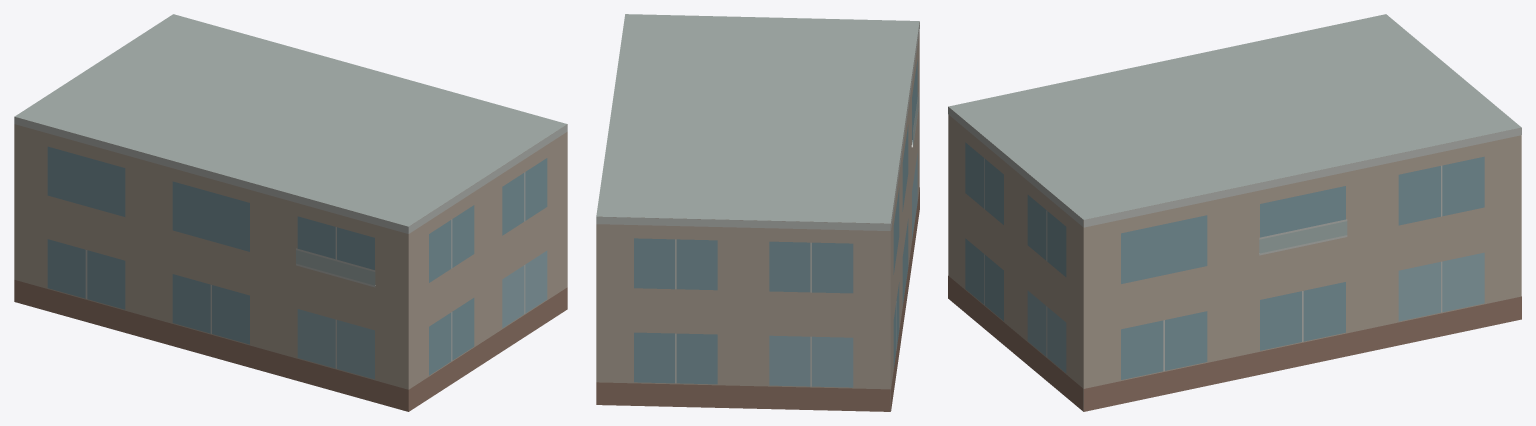
Rendered from survey-upis-32702136.glb.
The picture shows the model from 3 angles, left to right: view 1: azimuth 30°, elevation 25°; view 2: azimuth 150°, elevation 25°; view 3: azimuth 270°, elevation 25°; orthographic projection. The views are drawn at different scales.
Visible parts, largest first — view 1: survey-upis-32702136.tmp; view 2: survey-upis-32702136.tmp; view 3: survey-upis-32702136.tmp.
Boxes of the visible parts, <box> form: survey-upis-32702136.tmp: <box>14,14,567,411</box>; survey-upis-32702136.tmp: <box>596,14,919,411</box>; survey-upis-32702136.tmp: <box>948,14,1521,411</box>.
Size of the model in its own units: 14.05 by 6.1 by 16.53.
